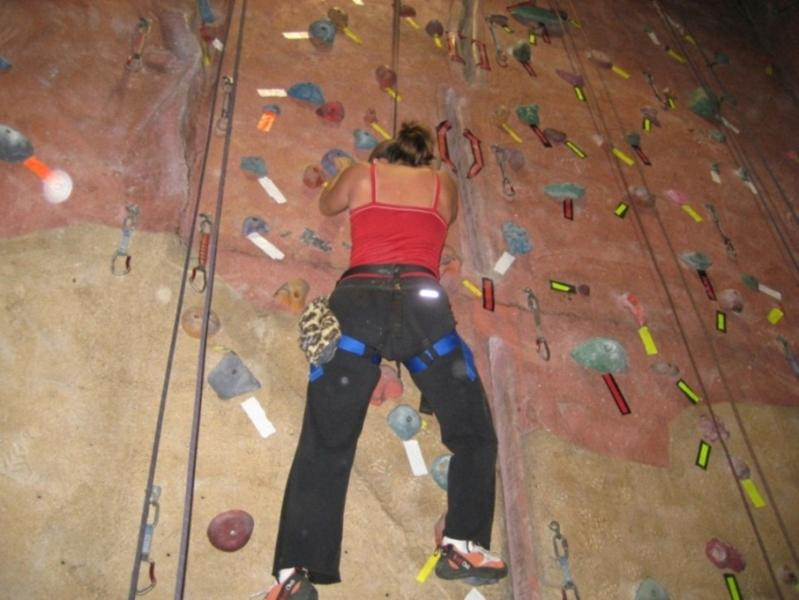person: (268, 122, 509, 599)
